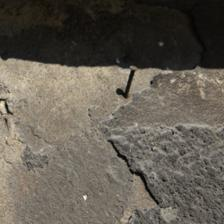Crack: (51, 35, 111, 173)
